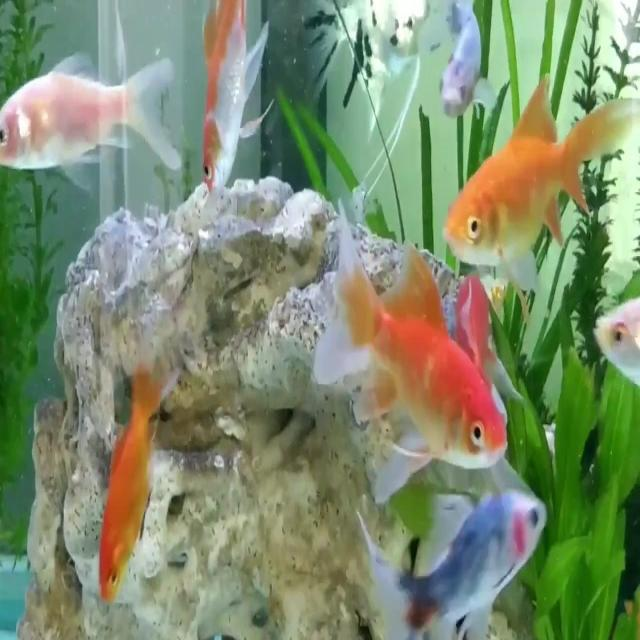GoldFish: (297, 194, 514, 491), (441, 65, 640, 288), (94, 346, 188, 608), (0, 52, 171, 172), (183, 0, 269, 201)
